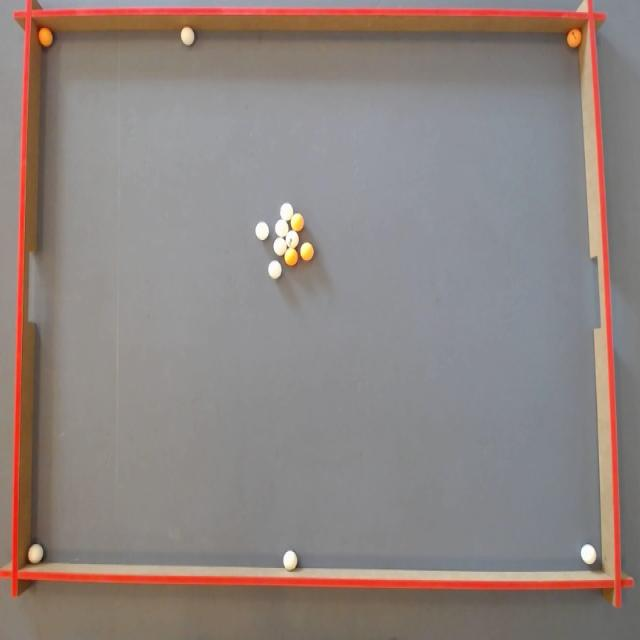orange_ball: (38, 27, 53, 47), (567, 28, 581, 48), (300, 242, 314, 261), (284, 248, 298, 266), (291, 213, 304, 231)
white_ball: (28, 544, 44, 564), (581, 544, 596, 564), (283, 550, 297, 570), (255, 222, 269, 240), (181, 27, 194, 46), (268, 260, 281, 278), (280, 202, 293, 220), (274, 237, 286, 256), (276, 219, 288, 237), (286, 230, 298, 248)
